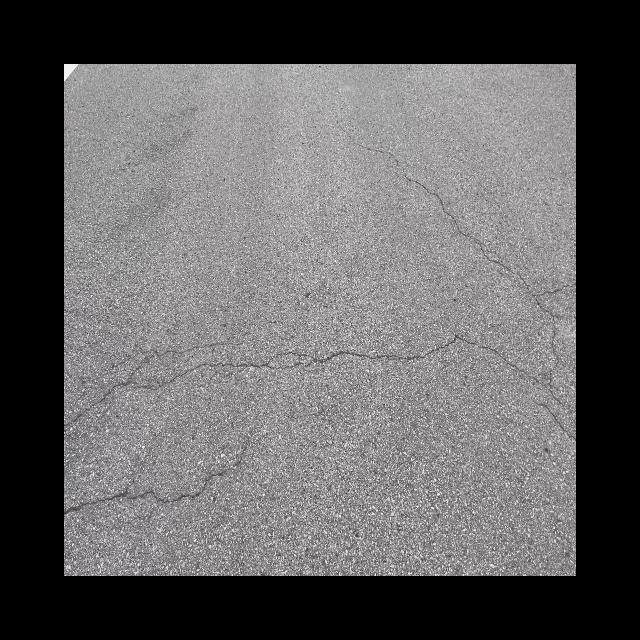retak_memanjang: (64, 313, 576, 452), (370, 139, 576, 367), (64, 419, 301, 538)
